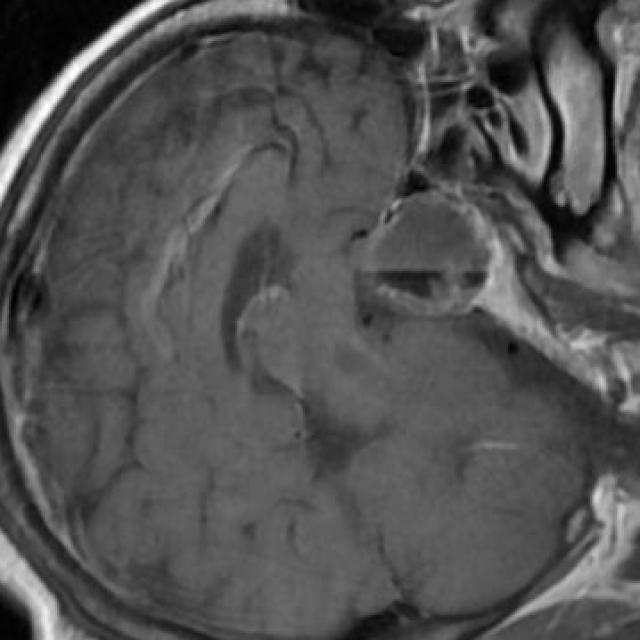pituitary: (365, 193, 490, 310)
